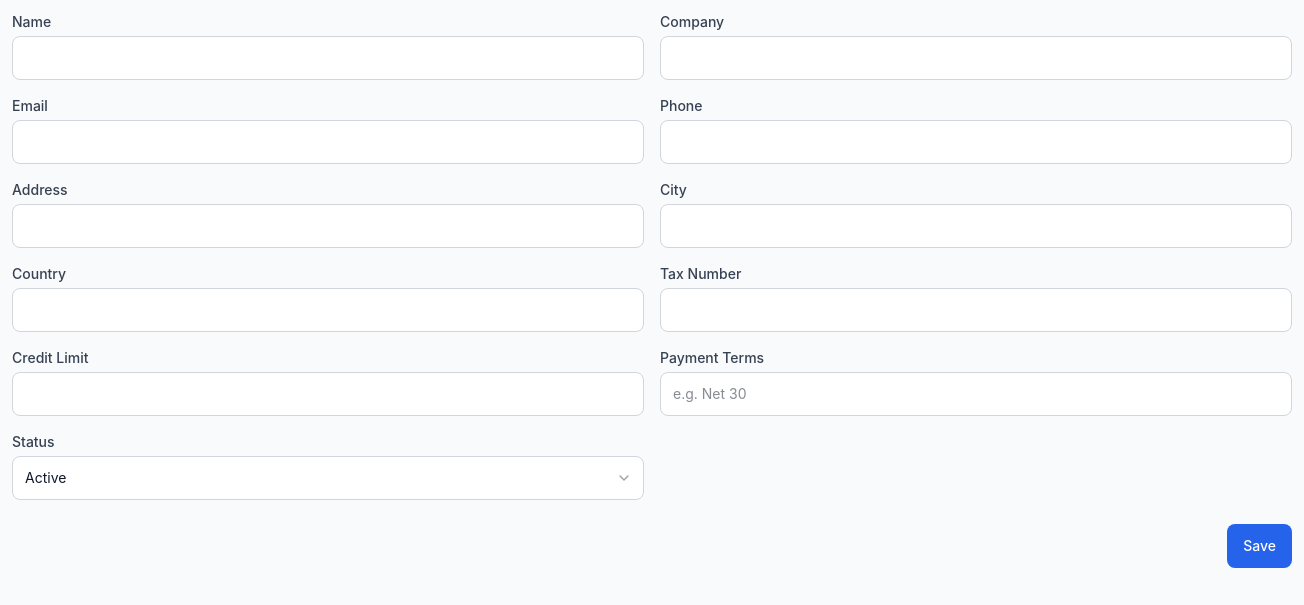
Test: CustomerForm › shows a validation error when name is missing
The width and height of the screenshot is (1304, 605).
Click the button "Save": (1260, 546) [1227,524,1292,568]
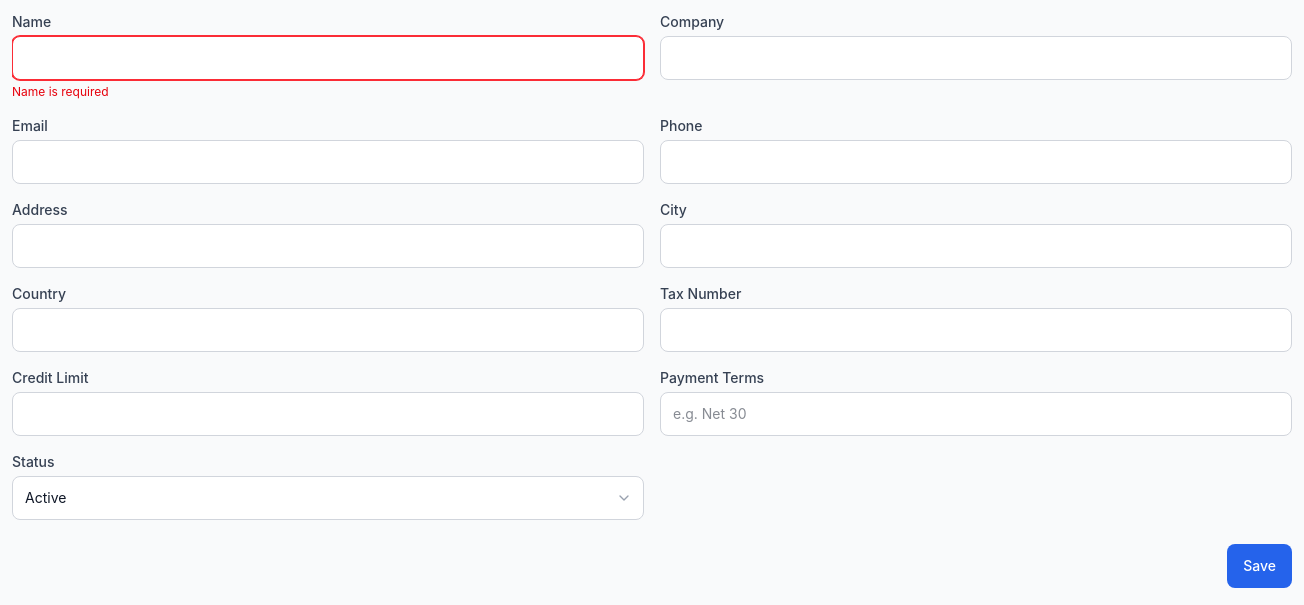
Result: the text "Name is required" is shown at [12,84,109,99]
